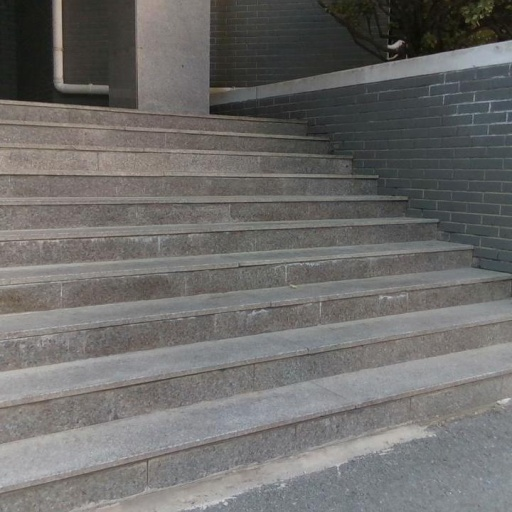Stairs: (0, 101, 512, 512)
